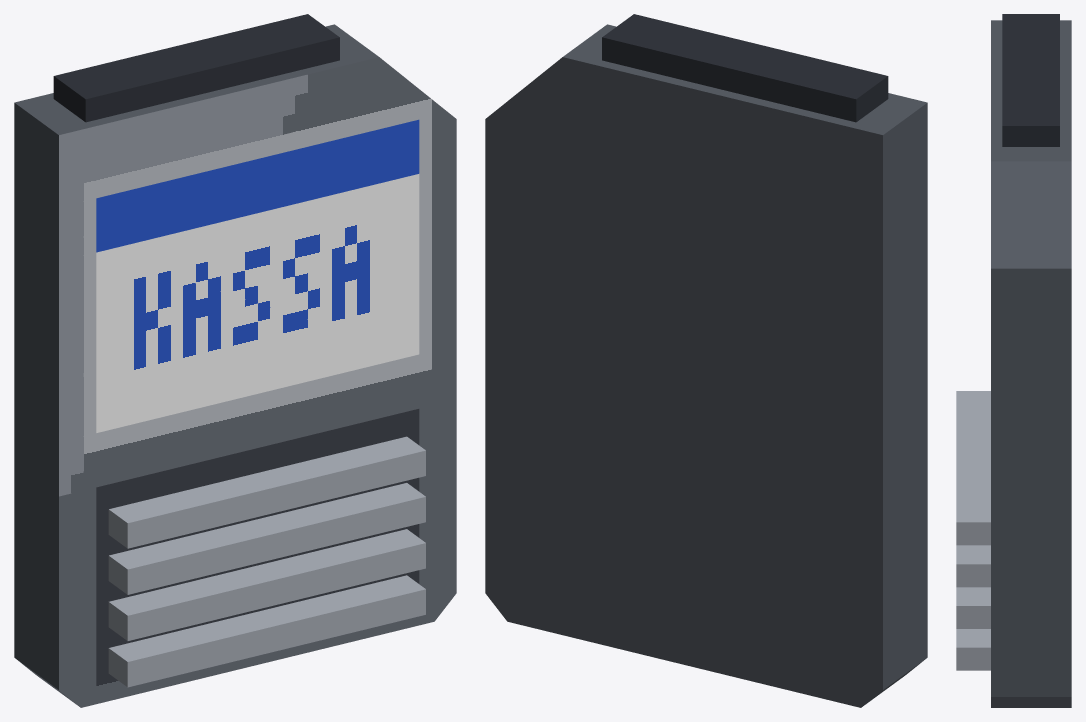
File: money-memoryCard.glb
3 views of the same model, side by side, from view 1: azimuth 30°, elevation 25°; view 2: azimuth 150°, elevation 25°; view 3: azimuth 270°, elevation 25° (orthographic). The views are drawn at different scales.
Parts seen in each view (by area): view 1: money.memoryCard; view 2: money.memoryCard; view 3: money.memoryCard.
Boxes of the visible parts, x1=… form: money.memoryCard: x1=14, y1=14, x2=456, y2=707; money.memoryCard: x1=485, y1=14, x2=927, y2=707; money.memoryCard: x1=956, y1=14, x2=1071, y2=707.
Size of the model in its own units: 1.16 by 1.68 by 0.3233.
Materials: 4 (1 with a texture image).
